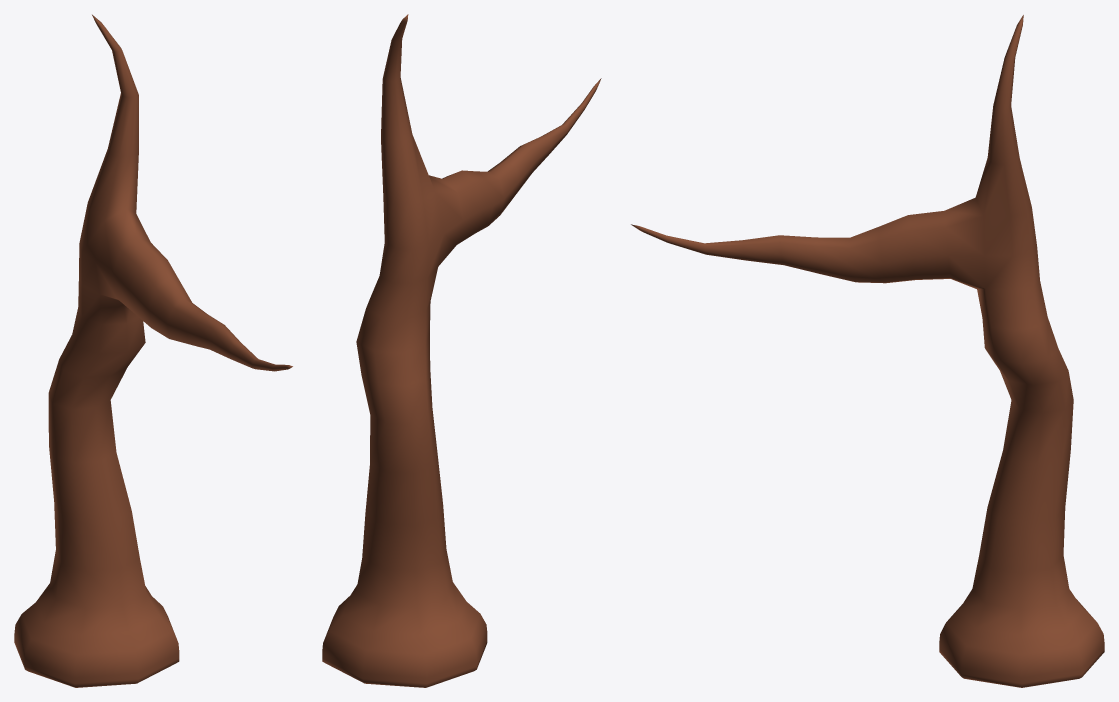
The model's file is Sniper Tree.fbx.
The picture shows the model from 3 angles, left to right: view 1: azimuth 30°, elevation 25°; view 2: azimuth 150°, elevation 25°; view 3: azimuth 270°, elevation 25°; orthographic projection.
Visible parts, largest first — view 1: Sniper Tree; view 2: Sniper Tree; view 3: Sniper Tree.
Part boxes in pixels (box(x1,y1,x2,y2)): Sniper Tree: box(14, 14, 292, 687); Sniper Tree: box(322, 14, 601, 687); Sniper Tree: box(631, 15, 1104, 687).
Size of the model in its own units: 1648 by 574 by 2455.
